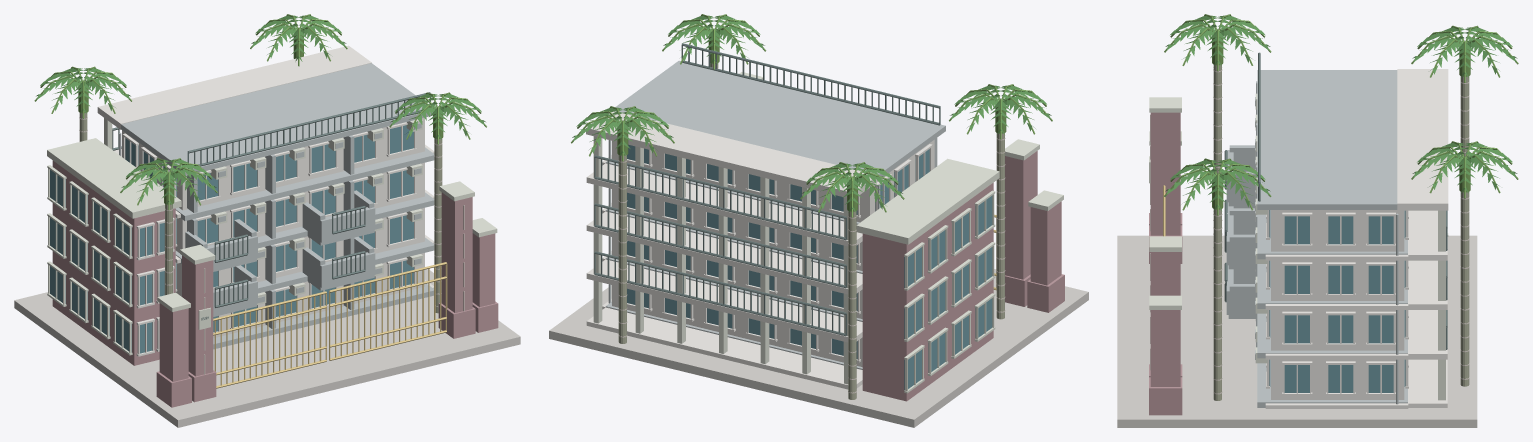
File: dot-P12.glb
3 views of the same model, side by side, from view 1: azimuth 30°, elevation 25°; view 2: azimuth 150°, elevation 25°; view 3: azimuth 270°, elevation 25° (orthographic). The views are drawn at different scales.
Parts seen in each view (by area): view 1: pave; view 2: pave; view 3: pave.
Part boxes in pixels (x1=…): pave: x1=14, y1=14, x2=520, y2=427; pave: x1=549, y1=14, x2=1088, y2=427; pave: x1=1117, y1=14, x2=1518, y2=427.
Size of the model in its own units: 5.95 by 3.58 by 5.34.
1 material, 1 textured.
